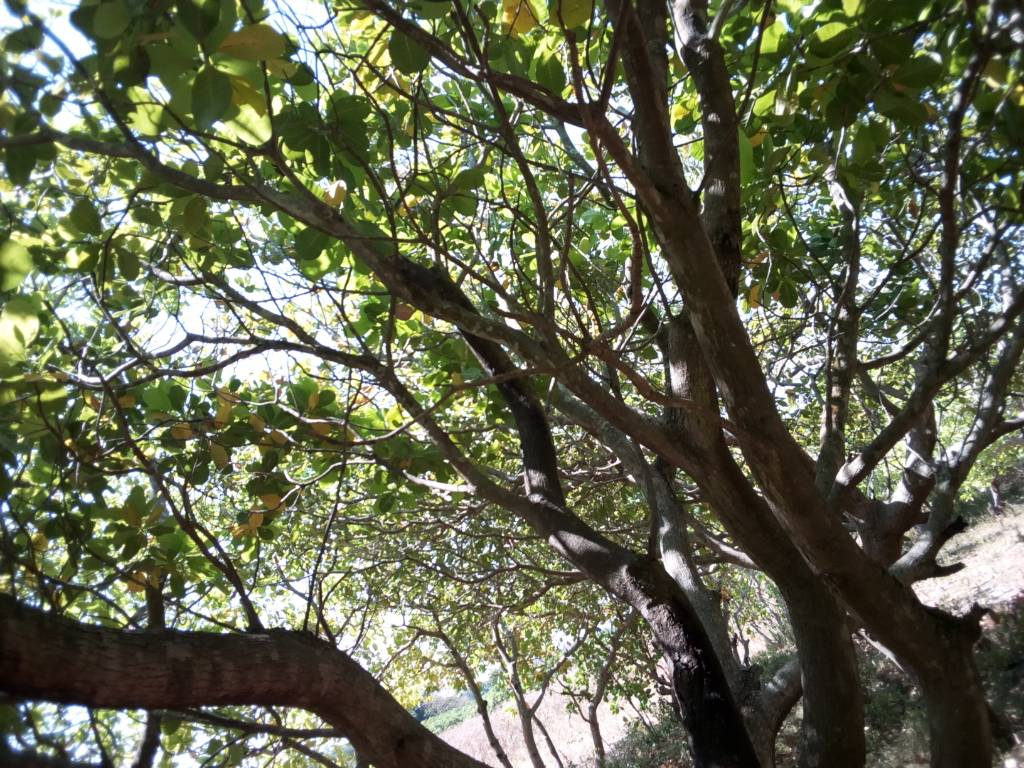Gommose: (677, 604, 749, 768)
